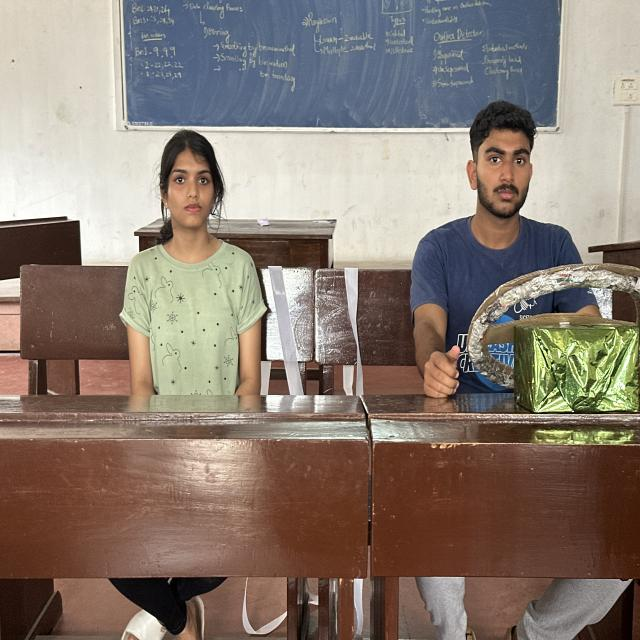no-seatbelt: (400, 213, 608, 408), (107, 232, 280, 443)
